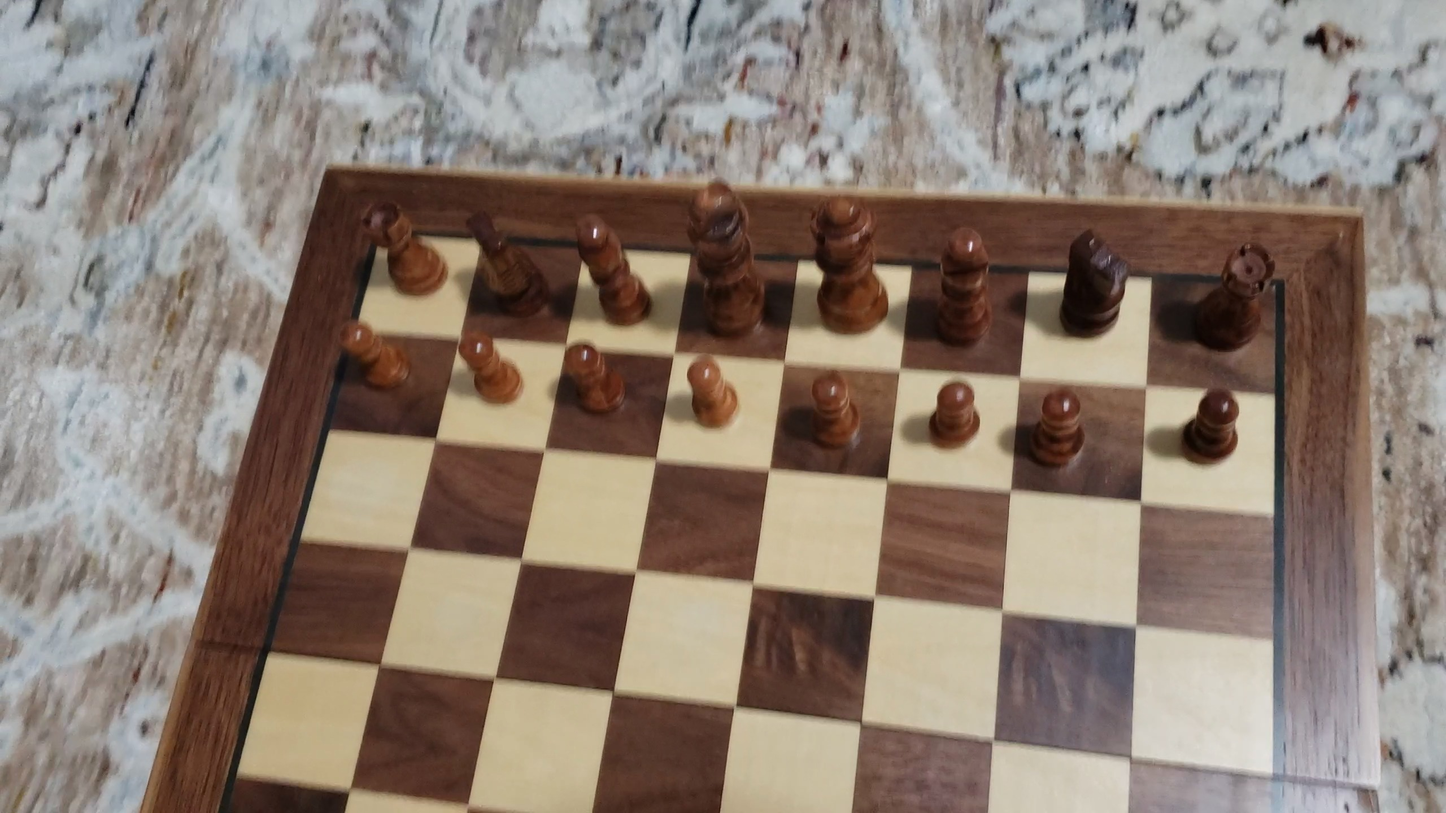black-bishop: (572, 209, 651, 327), (934, 222, 995, 347)
black-king: (681, 174, 768, 338)
black-knight: (465, 208, 551, 319), (1057, 226, 1131, 338)
black-pawn: (336, 318, 412, 394), (1025, 385, 1087, 473), (1180, 384, 1244, 467), (456, 327, 523, 406), (561, 339, 627, 418), (807, 369, 864, 454), (685, 352, 740, 432), (926, 378, 983, 452)
black-queen: (803, 193, 892, 335)
black-rook: (1189, 240, 1279, 354), (359, 199, 448, 297)
